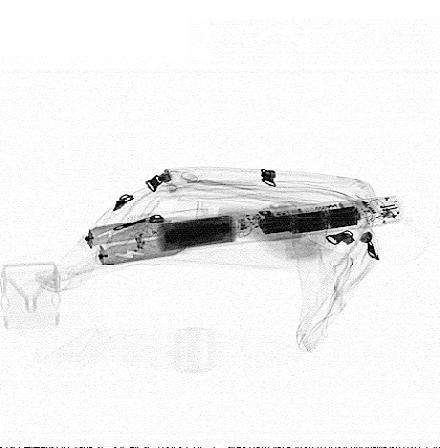Baton: (85, 194, 402, 269)
